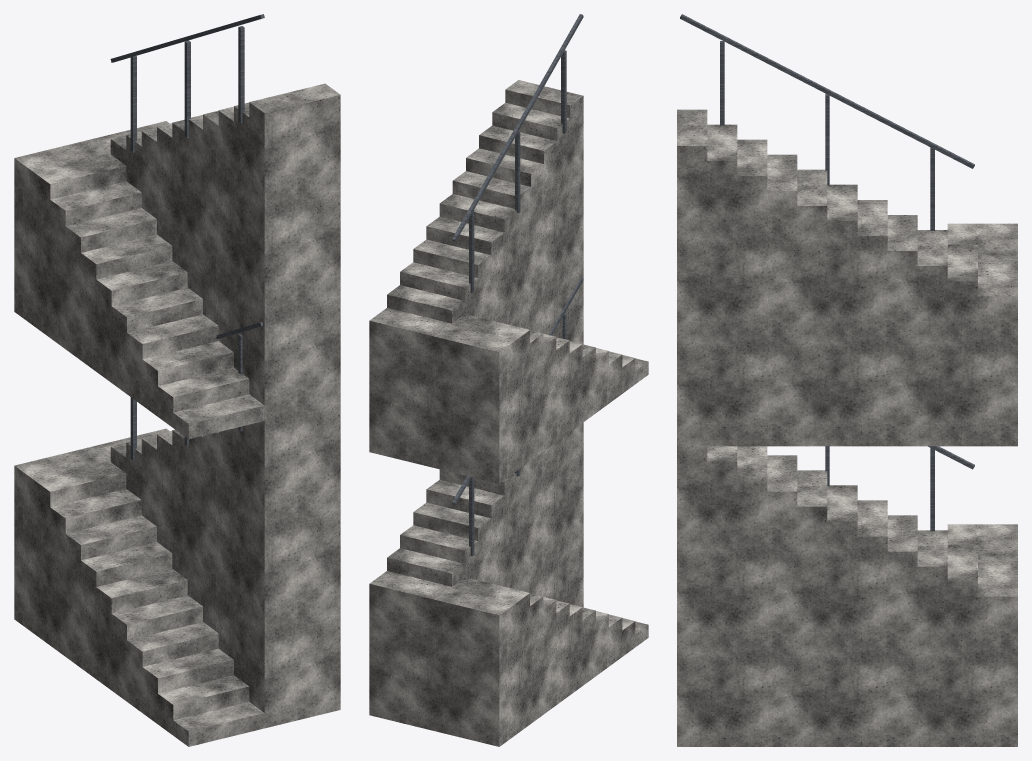
The model's file is stair.fbx.
3 views of the same model, side by side, from view 1: azimuth 30°, elevation 25°; view 2: azimuth 150°, elevation 25°; view 3: azimuth 270°, elevation 25° (orthographic). The views are drawn at different scales.
Parts seen in each view (by area): view 1: stair; view 2: stair; view 3: stair.
Part boxes in pixels (x1,y1,x2,y2): stair: (14,14,340,746); stair: (369,14,648,746); stair: (677,14,1017,746).
Size of the model in its own units: 150 by 672 by 298.
